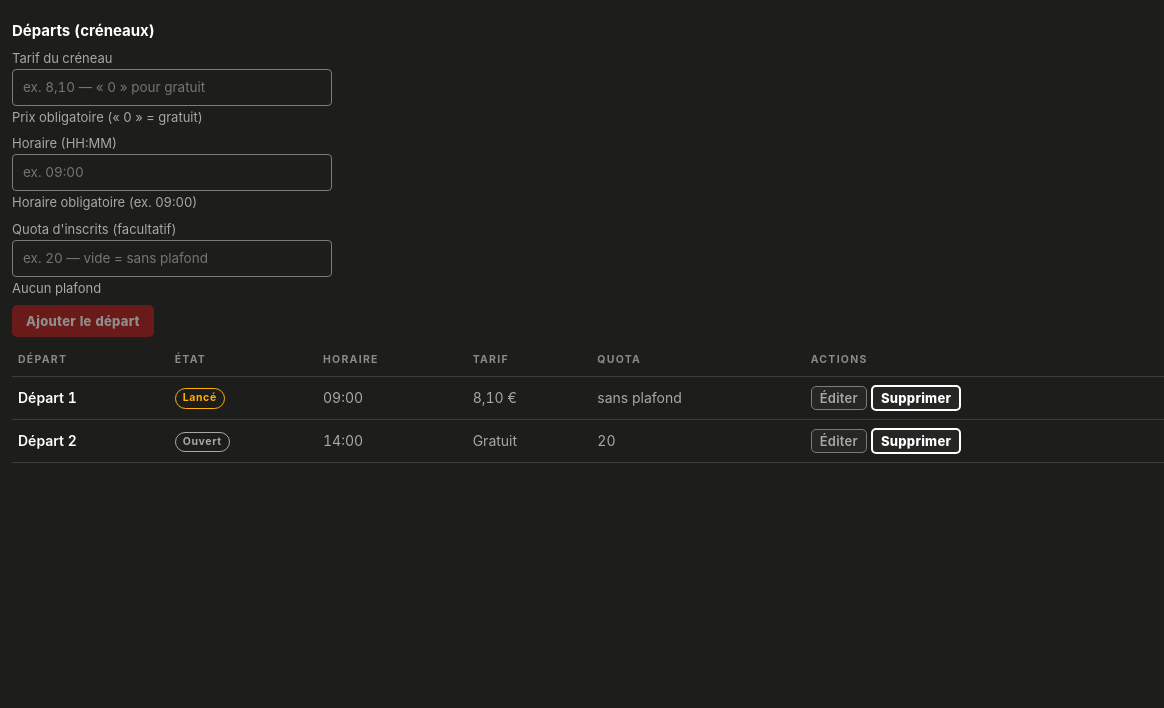
Test: Départs — tableau › « Éditer » remplace la ligne par le formulaire pré-rempli
This screenshot has width=1164, height=708.
Click the button with aria-label "Éditer le départ 2": (839, 441) top-left (811, 429), bottom-right (867, 453)
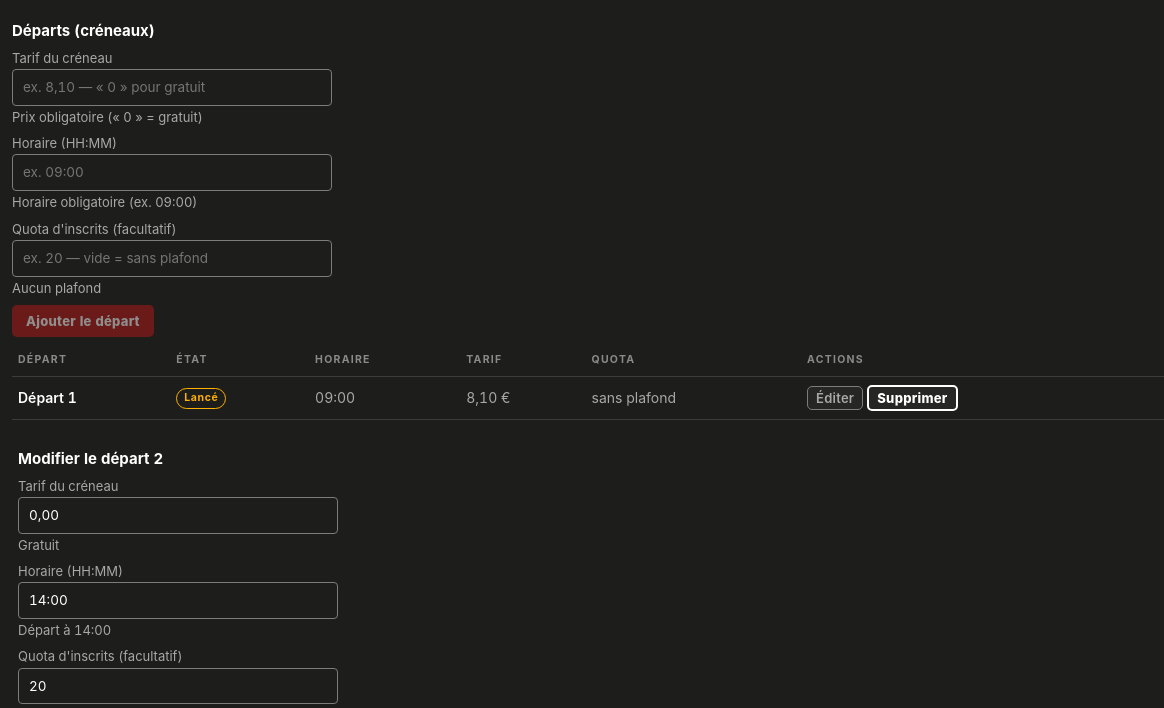
Now the field named "Quota d'inscrits du départ" holds "20", box top-left (18, 668), bottom-right (338, 704)
